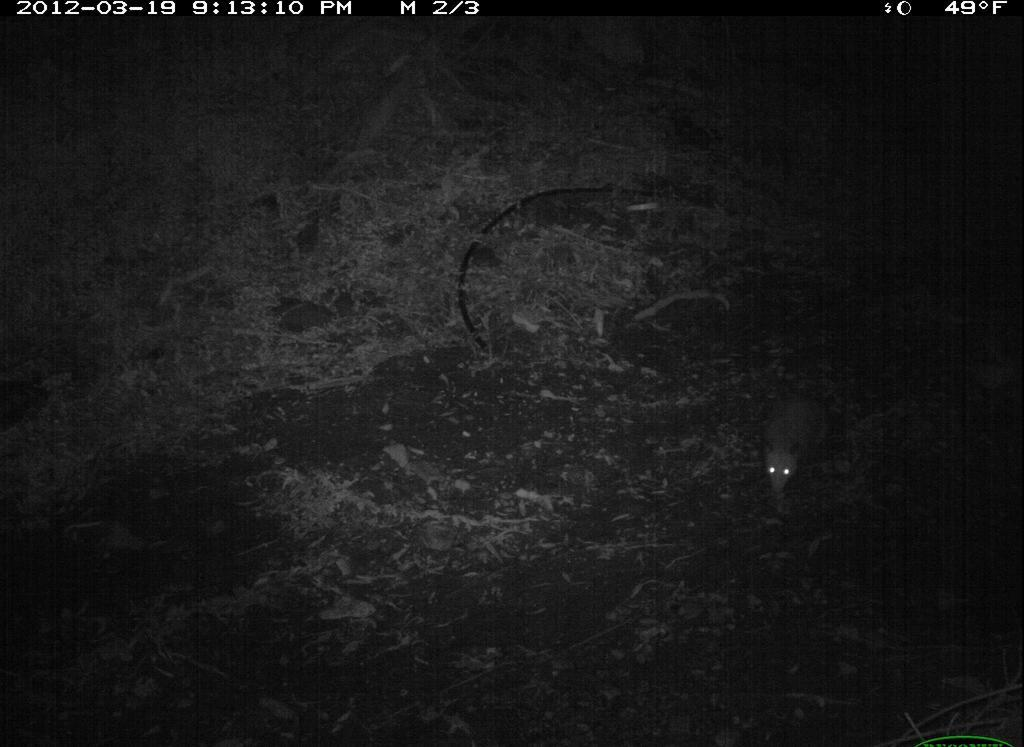opossum: (753, 386, 844, 505)
